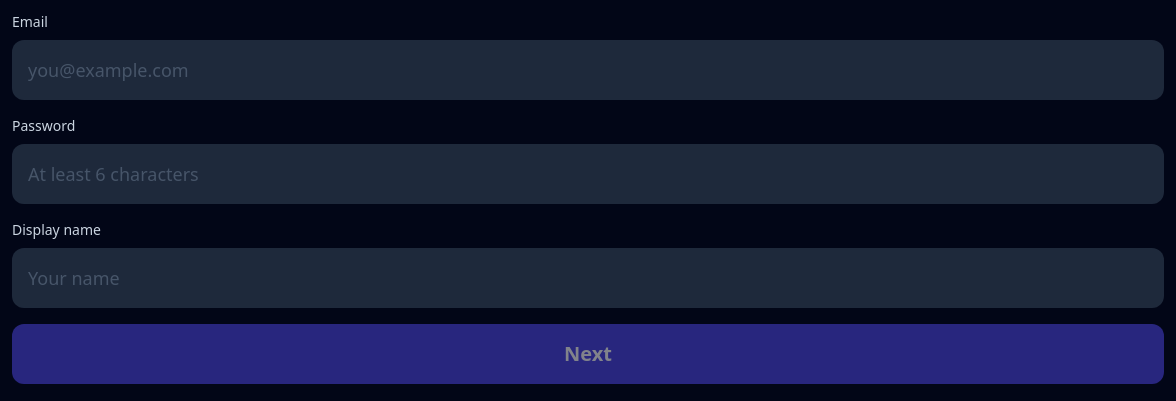
Test: SignUpForm › keeps Next disabled until email, password, and display name are all valid
Expected: the button "Next" is disabled, [12,324,1164,384]
Type "not-an-email" into the field labelled "Email". click: (588, 70)
box: [12,40,1164,100]
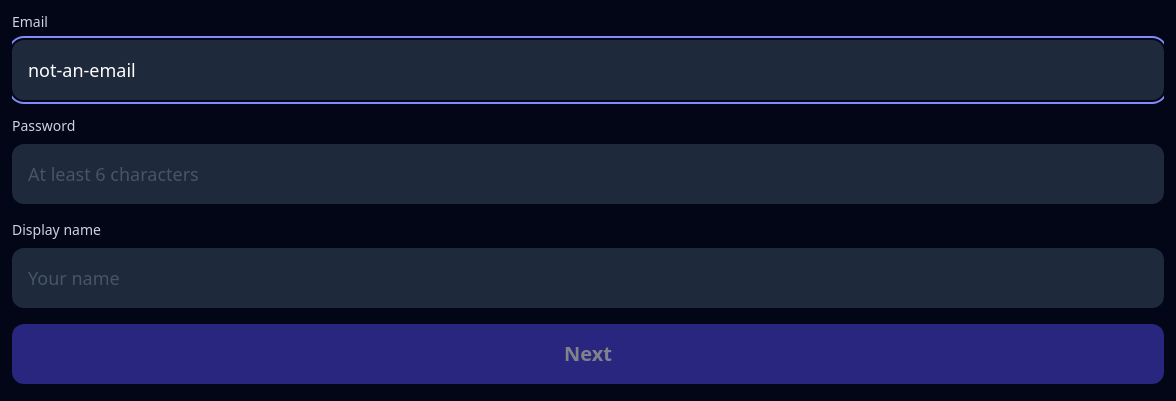
Type "12345" into the password field labelled "Password". click: (588, 174)
box: [12,144,1164,204]
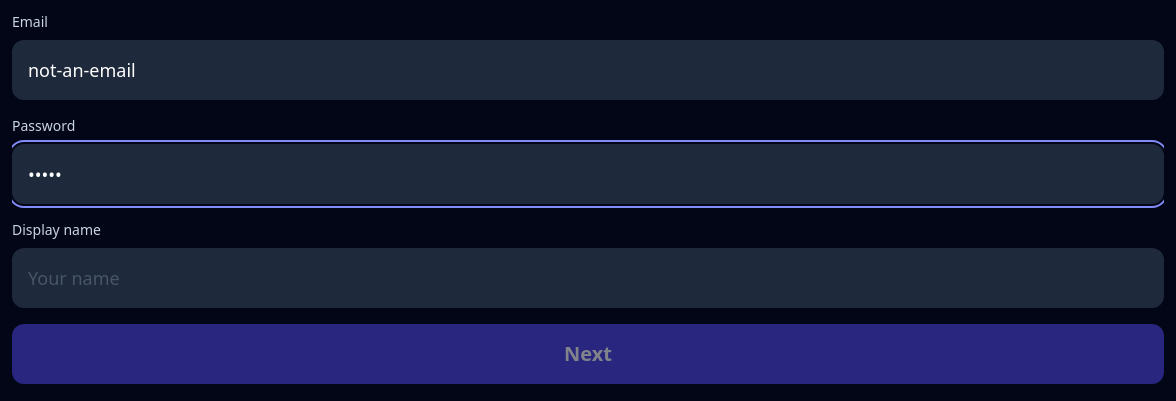
Type "Sam" into the field labelled "Display name". click: (588, 278)
box: [12,248,1164,308]
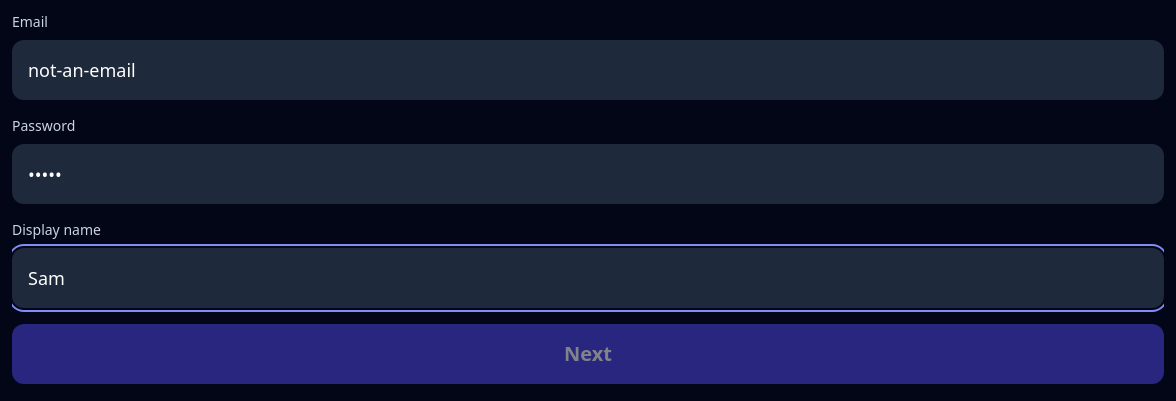
Expected: the button "Next" is disabled, [12,324,1164,384]
Replace the text in the field labelled "Email" with "sam@example.com". click: (588, 70)
box: [12,40,1164,100]
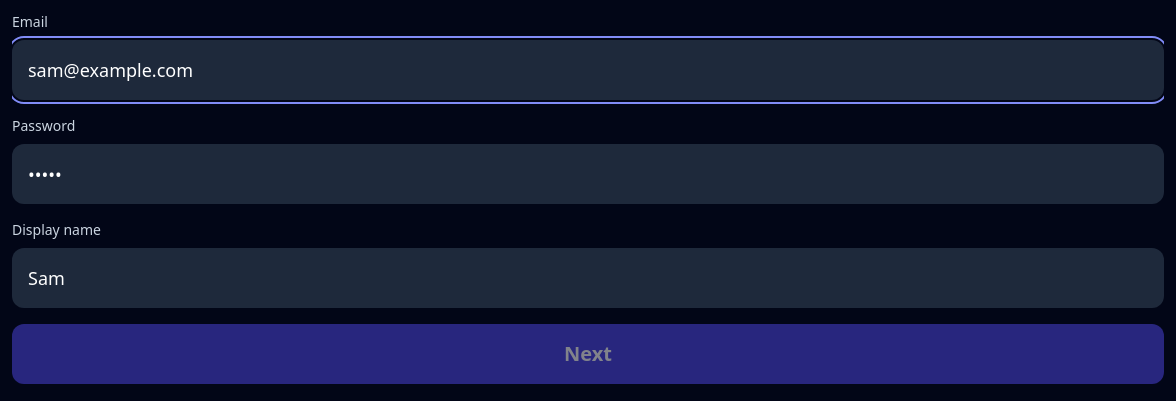
Type "longenough" into the password field labelled "Password". click: (588, 174)
box: [12,144,1164,204]
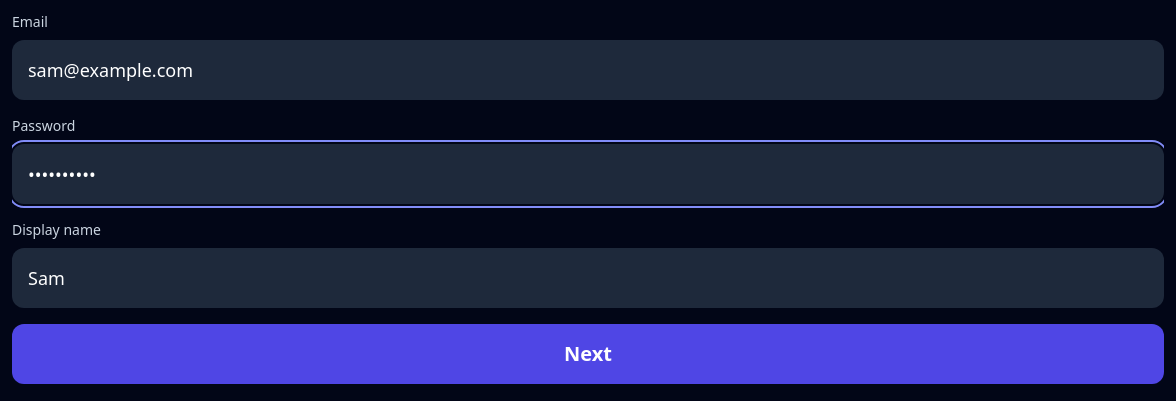
Expected: the button "Next" is enabled, [12,324,1164,384]
